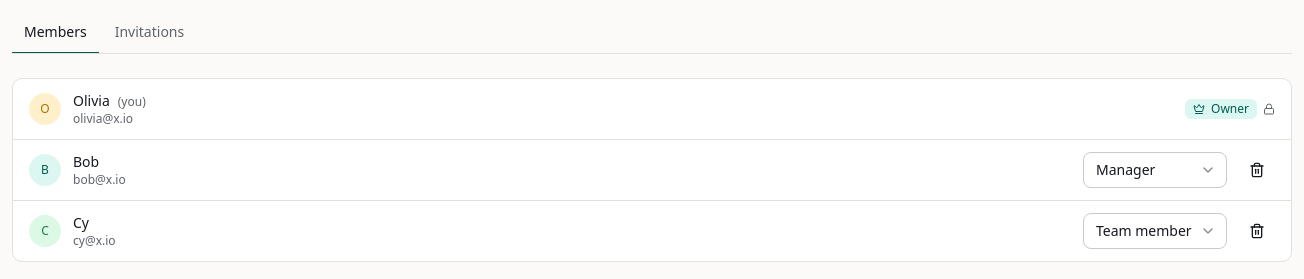
Invitations tab › shows derived status and offers revoke only for pending invitations
Click the tab "Invitations": (149, 33) x1=103 y1=12 x2=196 y2=54
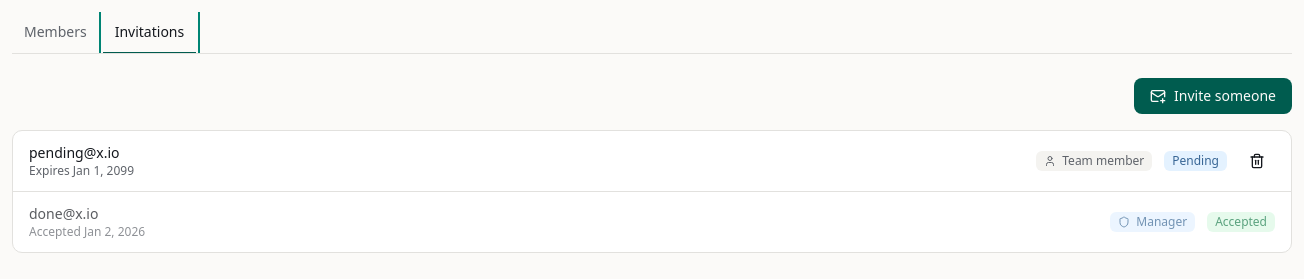
Now the text "pending@x.io" is shown, box x1=29 y1=143 x2=120 y2=162
Now the text "Pending" is shown, box x1=1164 y1=151 x2=1227 y2=171
Now the text "Accepted" is shown, box x1=1207 y1=212 x2=1275 y2=232
